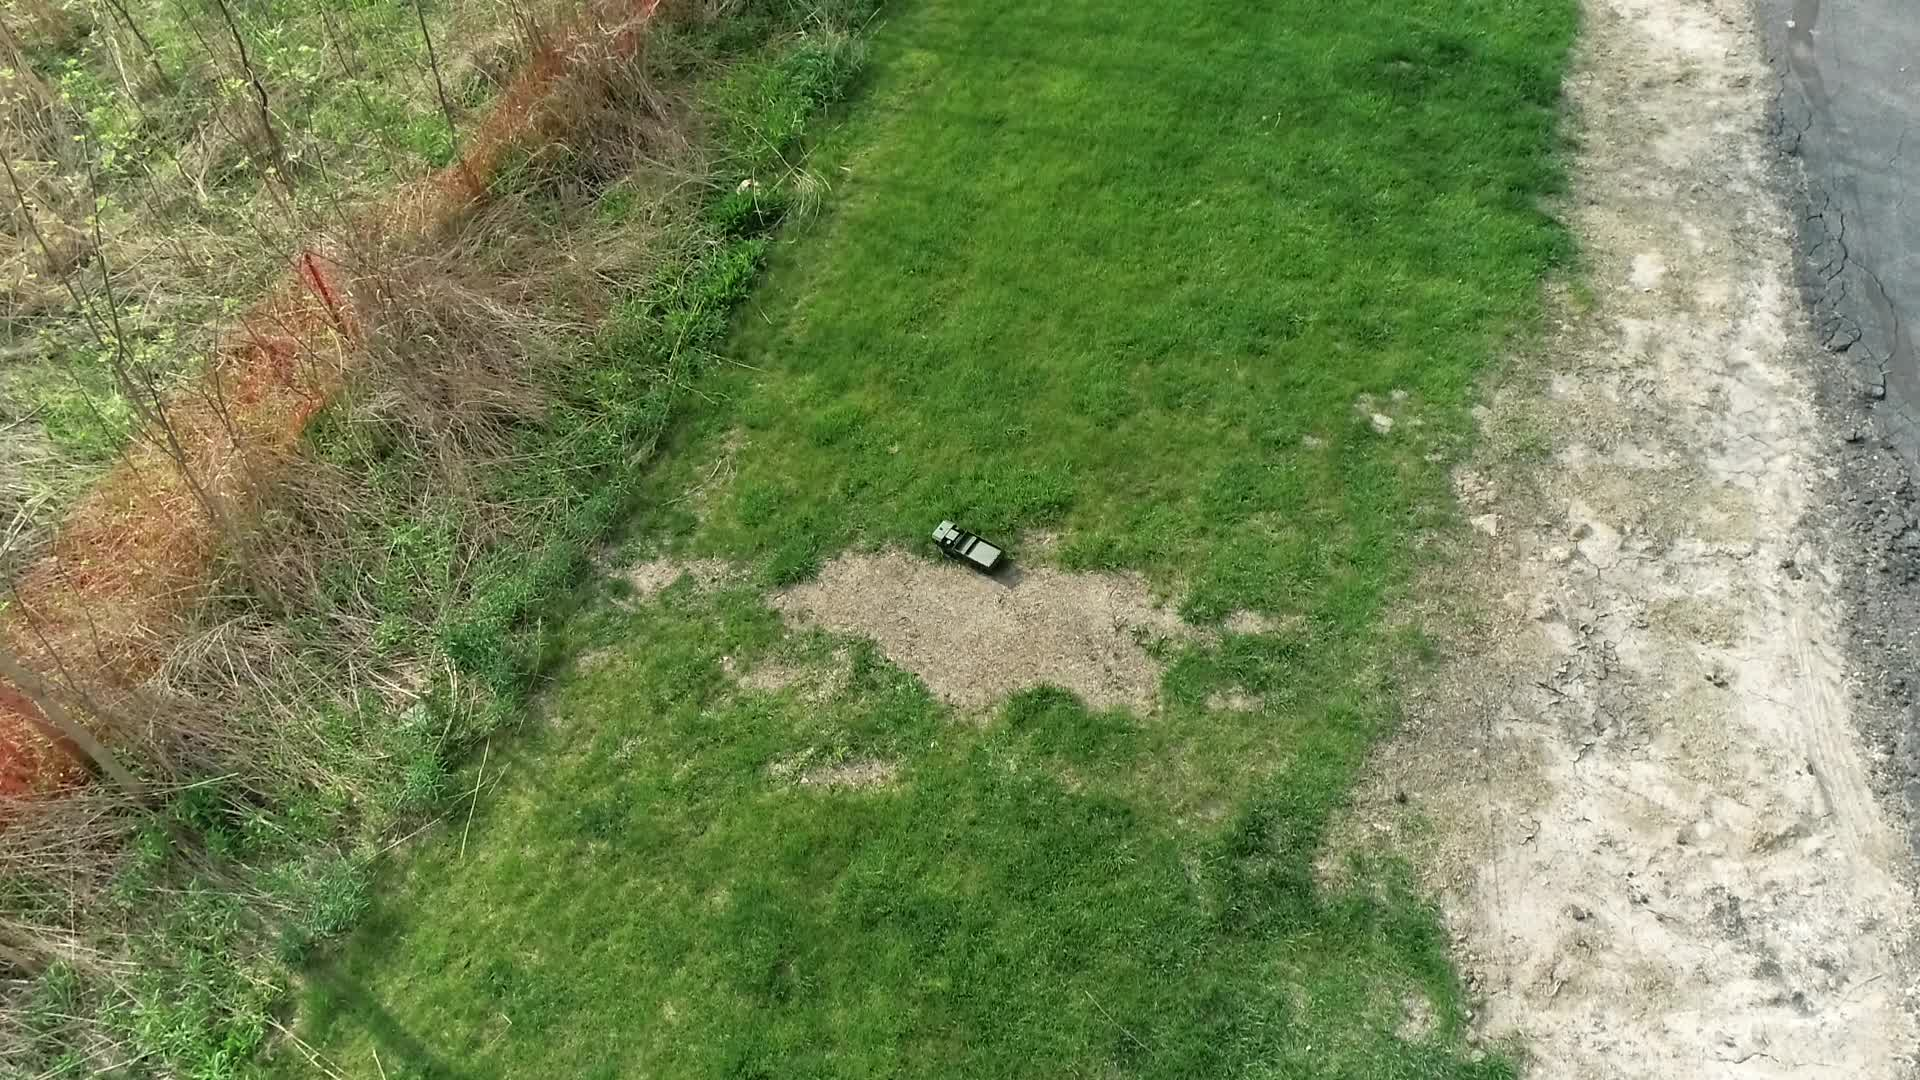transporter9: (930, 518, 1006, 574)
